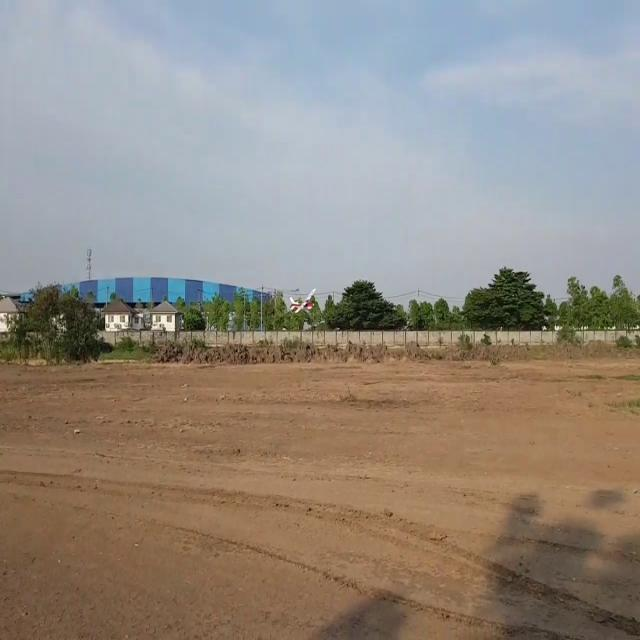iha: (288, 286, 315, 322)
